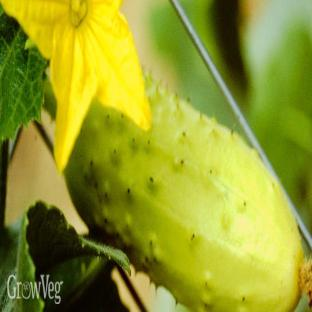Cucumber: (65, 77, 303, 311)
